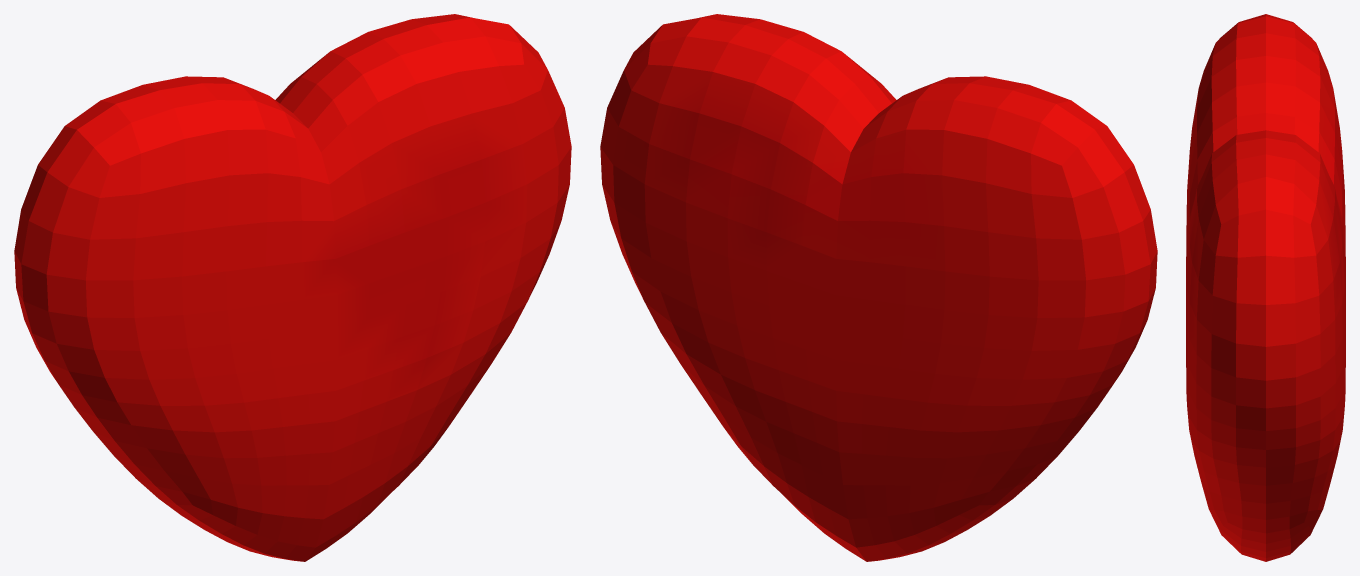
The model's file is Heart.fbx.
3 renders of one model, left to right at view 1: azimuth 30°, elevation 25°; view 2: azimuth 150°, elevation 25°; view 3: azimuth 270°, elevation 25°, orthographic. The views are drawn at different scales.
Visible parts, largest first — view 1: Cube; view 2: Cube; view 3: Cube.
Boxes of the visible parts, bbox=[...] form: Cube: bbox=[14, 14, 571, 561]; Cube: bbox=[600, 14, 1157, 561]; Cube: bbox=[1186, 14, 1345, 561].
Size of the model in its own units: 467 by 413 by 128.
